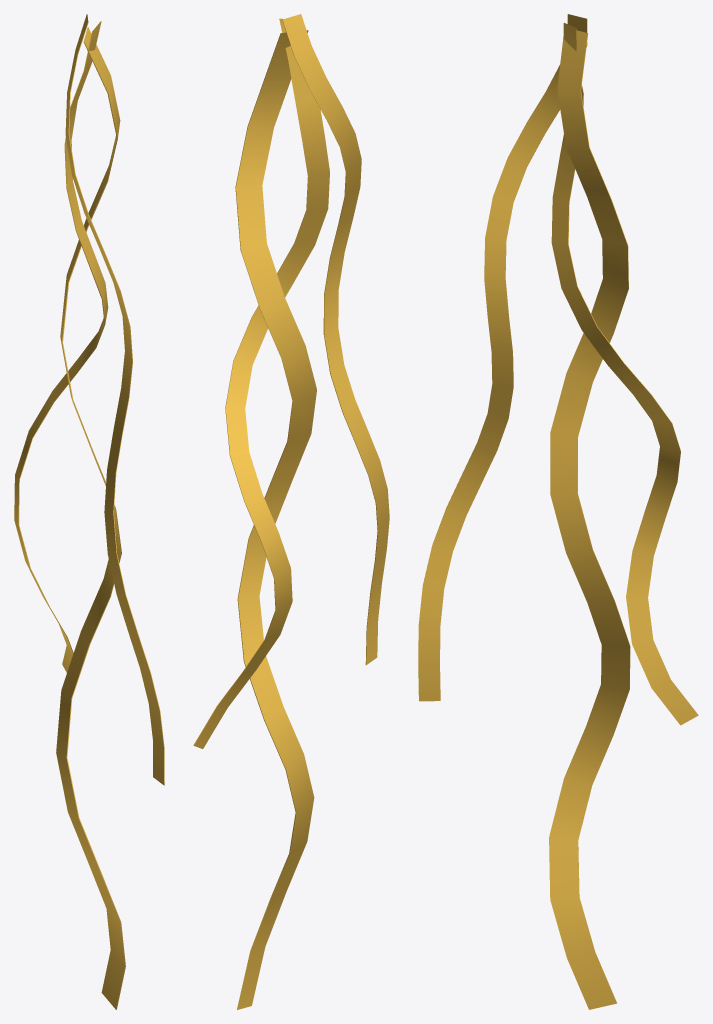
The model's file is PartyBalloons02_Decor5.FBX.
3 views of the same model, side by side, from view 1: azimuth 30°, elevation 25°; view 2: azimuth 150°, elevation 25°; view 3: azimuth 270°, elevation 25° (orthographic). The views are drawn at different scales.
Visible parts, largest first — view 1: PartyBalloons02_Decor5; view 2: PartyBalloons02_Decor5; view 3: PartyBalloons02_Decor5.
Boxes of the visible parts, x1,y1,x2,y2 form: PartyBalloons02_Decor5: [14, 14, 164, 1009]; PartyBalloons02_Decor5: [193, 14, 389, 1009]; PartyBalloons02_Decor5: [418, 14, 698, 1009].
Size of the model in its own units: 0.0302 by 0.3708 by 0.0965.
